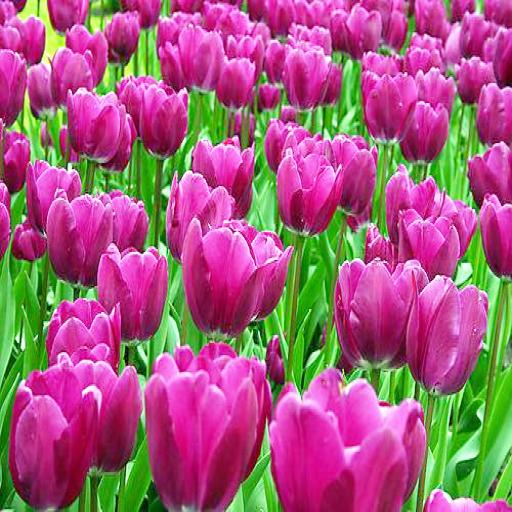tulip: (271, 369, 428, 512), (146, 340, 272, 512), (12, 355, 100, 512), (408, 272, 488, 397), (336, 254, 422, 369), (183, 218, 262, 338), (98, 242, 167, 338), (167, 170, 233, 264), (49, 192, 114, 286), (277, 149, 343, 237), (45, 300, 117, 367), (194, 137, 253, 215), (68, 85, 126, 163), (327, 132, 379, 217), (362, 64, 414, 142), (140, 81, 190, 160), (180, 26, 226, 89), (479, 191, 512, 278), (284, 42, 328, 104), (402, 102, 448, 158), (477, 83, 512, 143)
